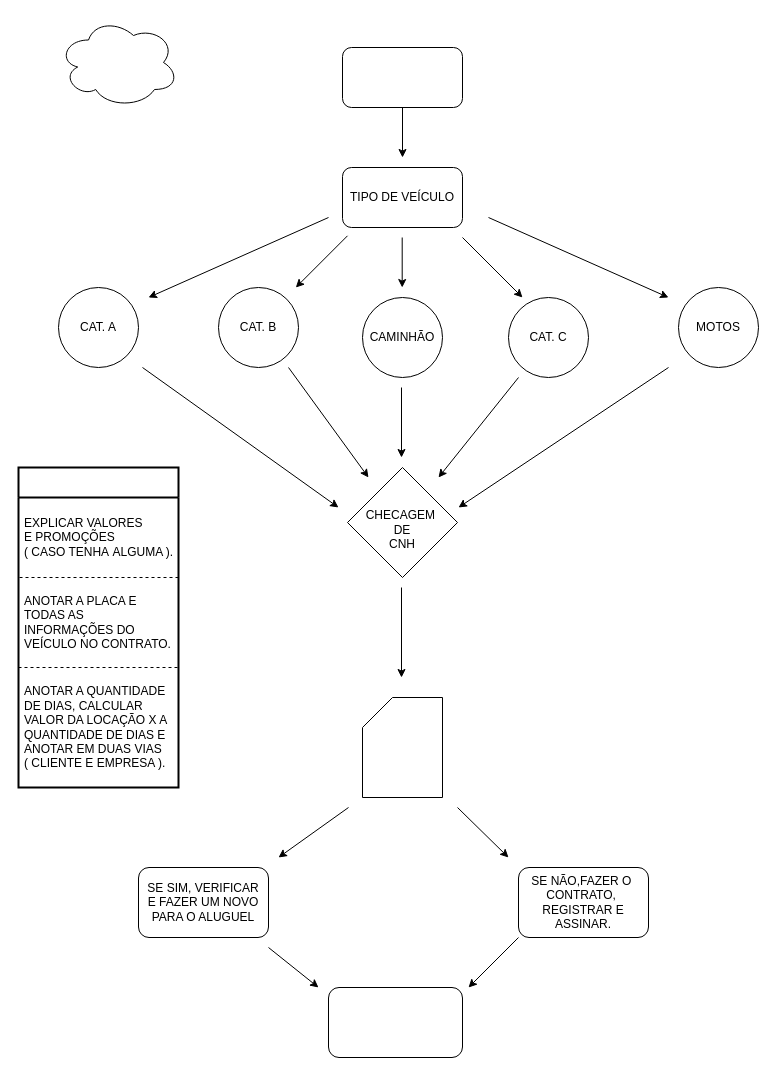
This 776x1075 diagram has some shape labels left out. Each missing label, with the box of its shape:
ALUGUEL DE CARROS: (58, 16, 178, 108)
CLIENTE: (342, 46, 462, 108)
LEMBRETES: (17, 466, 179, 788)
LIBERAR A CHAVE DO VEÍCULO: (328, 986, 462, 1058)
VERIFICAR SE POSSUÍ CONTRATOS: (362, 696, 442, 798)
